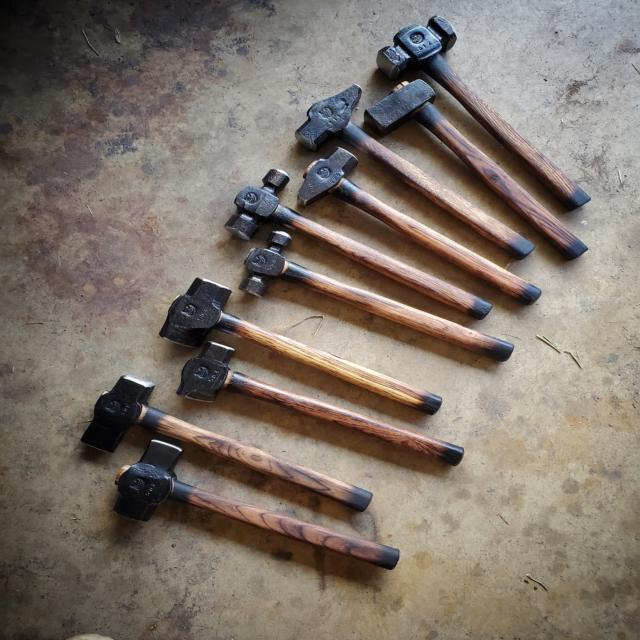hammer: (107, 430, 412, 591), (368, 9, 598, 213), (220, 164, 500, 326), (152, 270, 454, 418), (73, 369, 376, 516), (290, 82, 536, 262), (368, 80, 600, 270), (238, 226, 523, 372), (175, 338, 470, 474), (294, 144, 546, 302)
